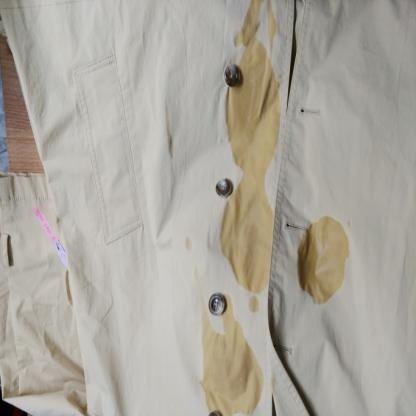coffee: (223, 196, 273, 284), (207, 342, 255, 408), (244, 70, 277, 163), (299, 227, 345, 293)
